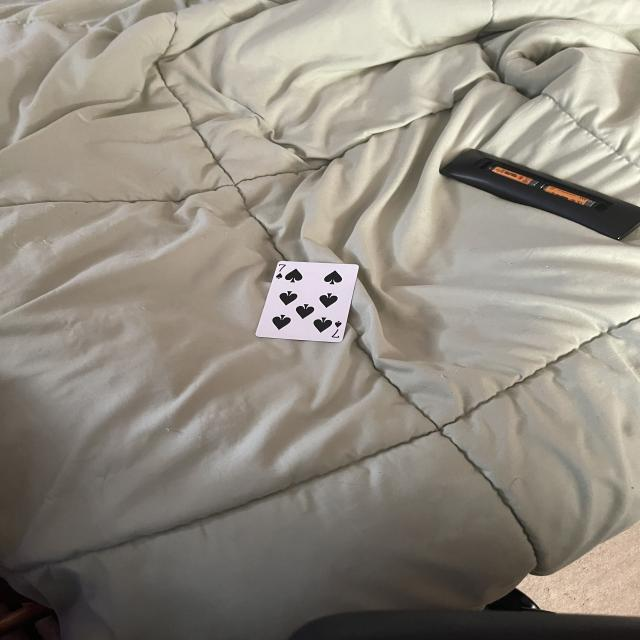7 of spades: (259, 263, 357, 341)
